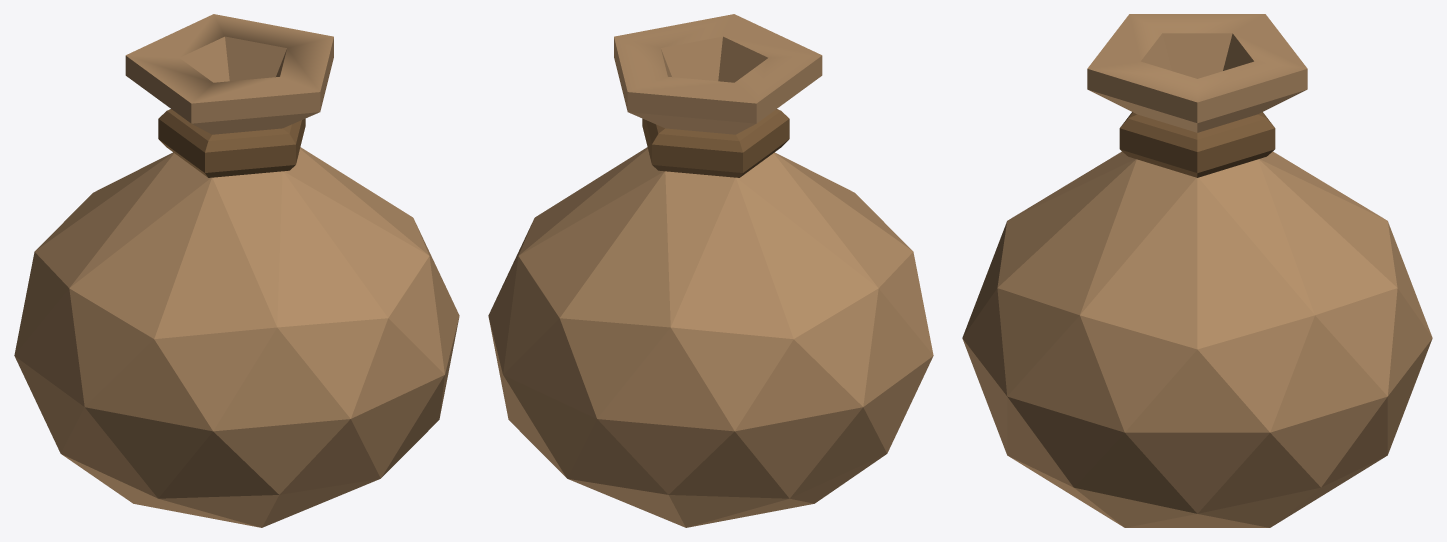
File: MoneyBag.fbx
The picture shows the model from 3 angles, left to right: view 1: azimuth 30°, elevation 25°; view 2: azimuth 150°, elevation 25°; view 3: azimuth 270°, elevation 25°; orthographic projection. The views are drawn at different scales.
Visible parts, largest first — view 1: MoneyBag; view 2: MoneyBag; view 3: MoneyBag.
Part boxes in pixels (x1=…): MoneyBag: x1=14, y1=14, x2=459, y2=527; MoneyBag: x1=488, y1=14, x2=933, y2=527; MoneyBag: x1=962, y1=14, x2=1432, y2=527.
Size of the model in its own units: 0.2362 by 0.2533 by 0.2484.
